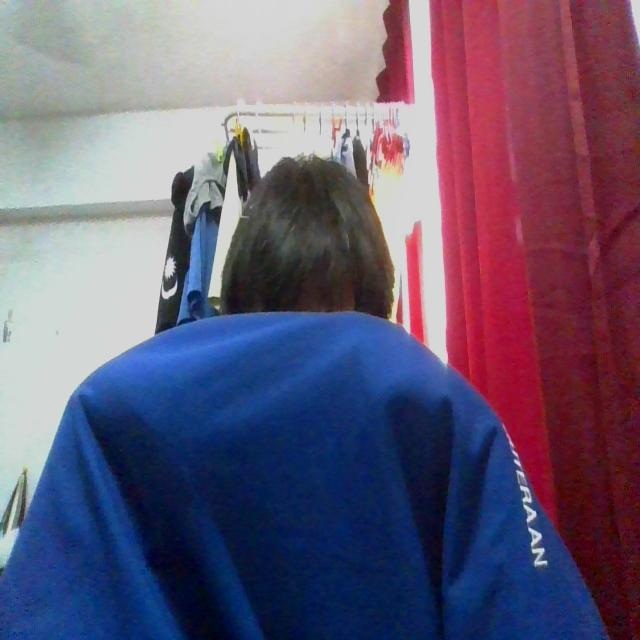person_without_labcoat: (0, 158, 608, 639)
